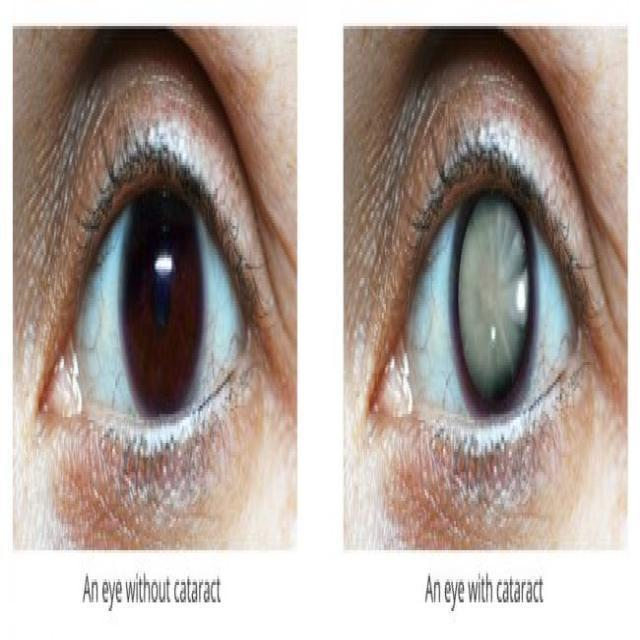Cataract: (448, 183, 540, 416)
